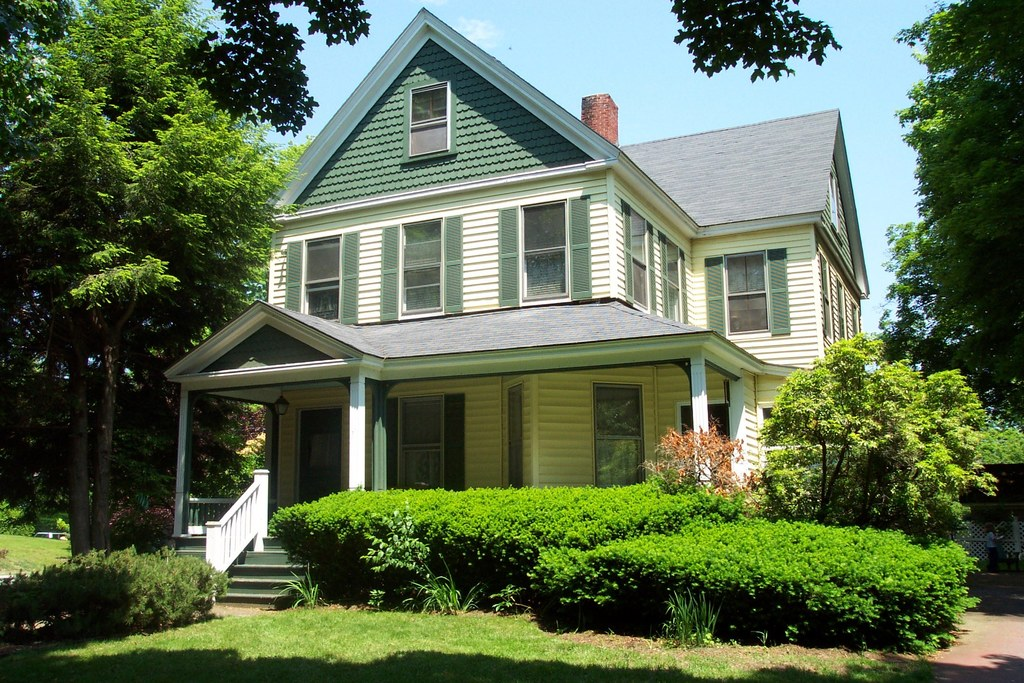Tree: (0, 0, 304, 555), (0, 0, 844, 137), (880, 0, 1024, 425), (754, 331, 1005, 520)
